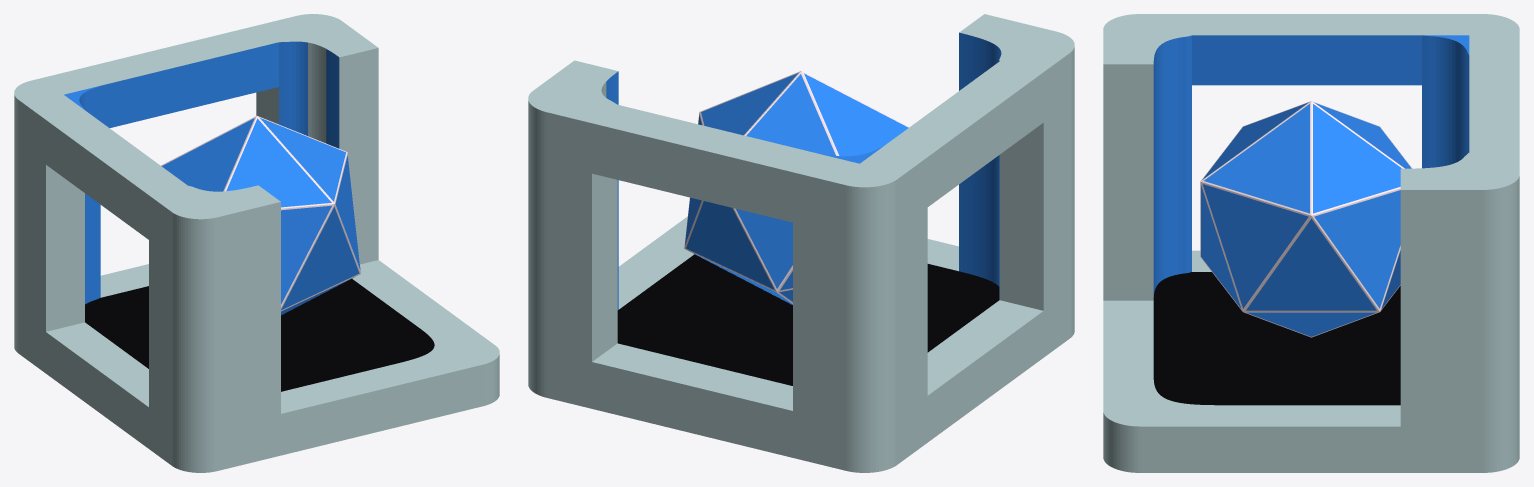
File: nuppgin4.glb
The picture shows the model from 3 angles, left to right: view 1: azimuth 30°, elevation 25°; view 2: azimuth 150°, elevation 25°; view 3: azimuth 270°, elevation 25°; orthographic projection. The views are drawn at different scales.
Parts seen in each view (by area): view 1: Cube.004, Icosphere.002; view 2: Cube.004, Icosphere.002; view 3: Cube.004, Icosphere.002.
Part boxes in pixels (<box>): Cube.004: <box>14,14,499,472</box>; Icosphere.002: <box>161,116,360,315</box>; Cube.004: <box>528,14,1074,472</box>; Icosphere.002: <box>684,71,909,304</box>; Cube.004: <box>1103,14,1519,472</box>; Icosphere.002: <box>1200,101,1412,337</box>.
Size of the model in its own units: 13.8 by 10.39 by 13.8.
